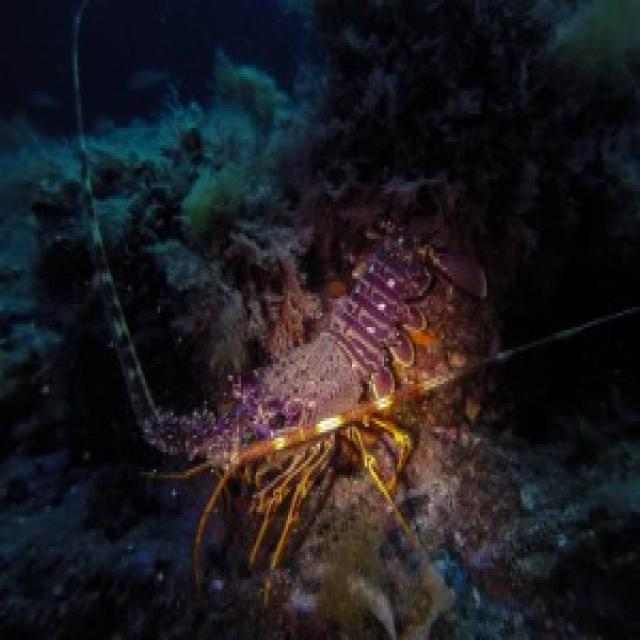lobsters: (97, 18, 562, 592)
